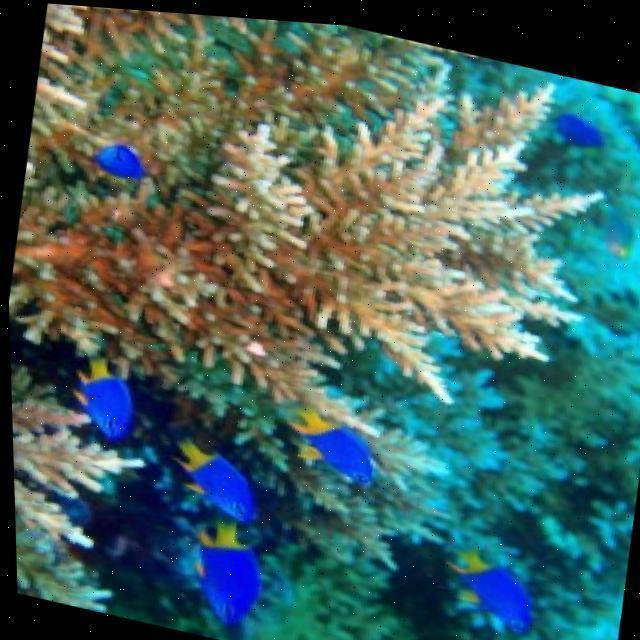Healthy Coral: (0, 52, 545, 469)
